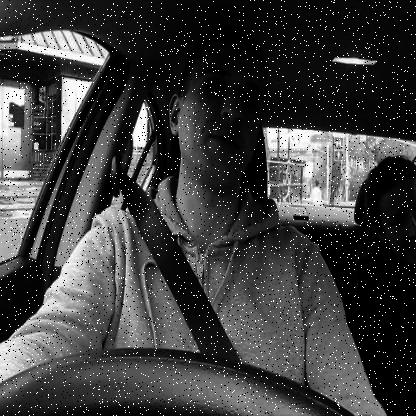seatbelt: (105, 11, 283, 381)
